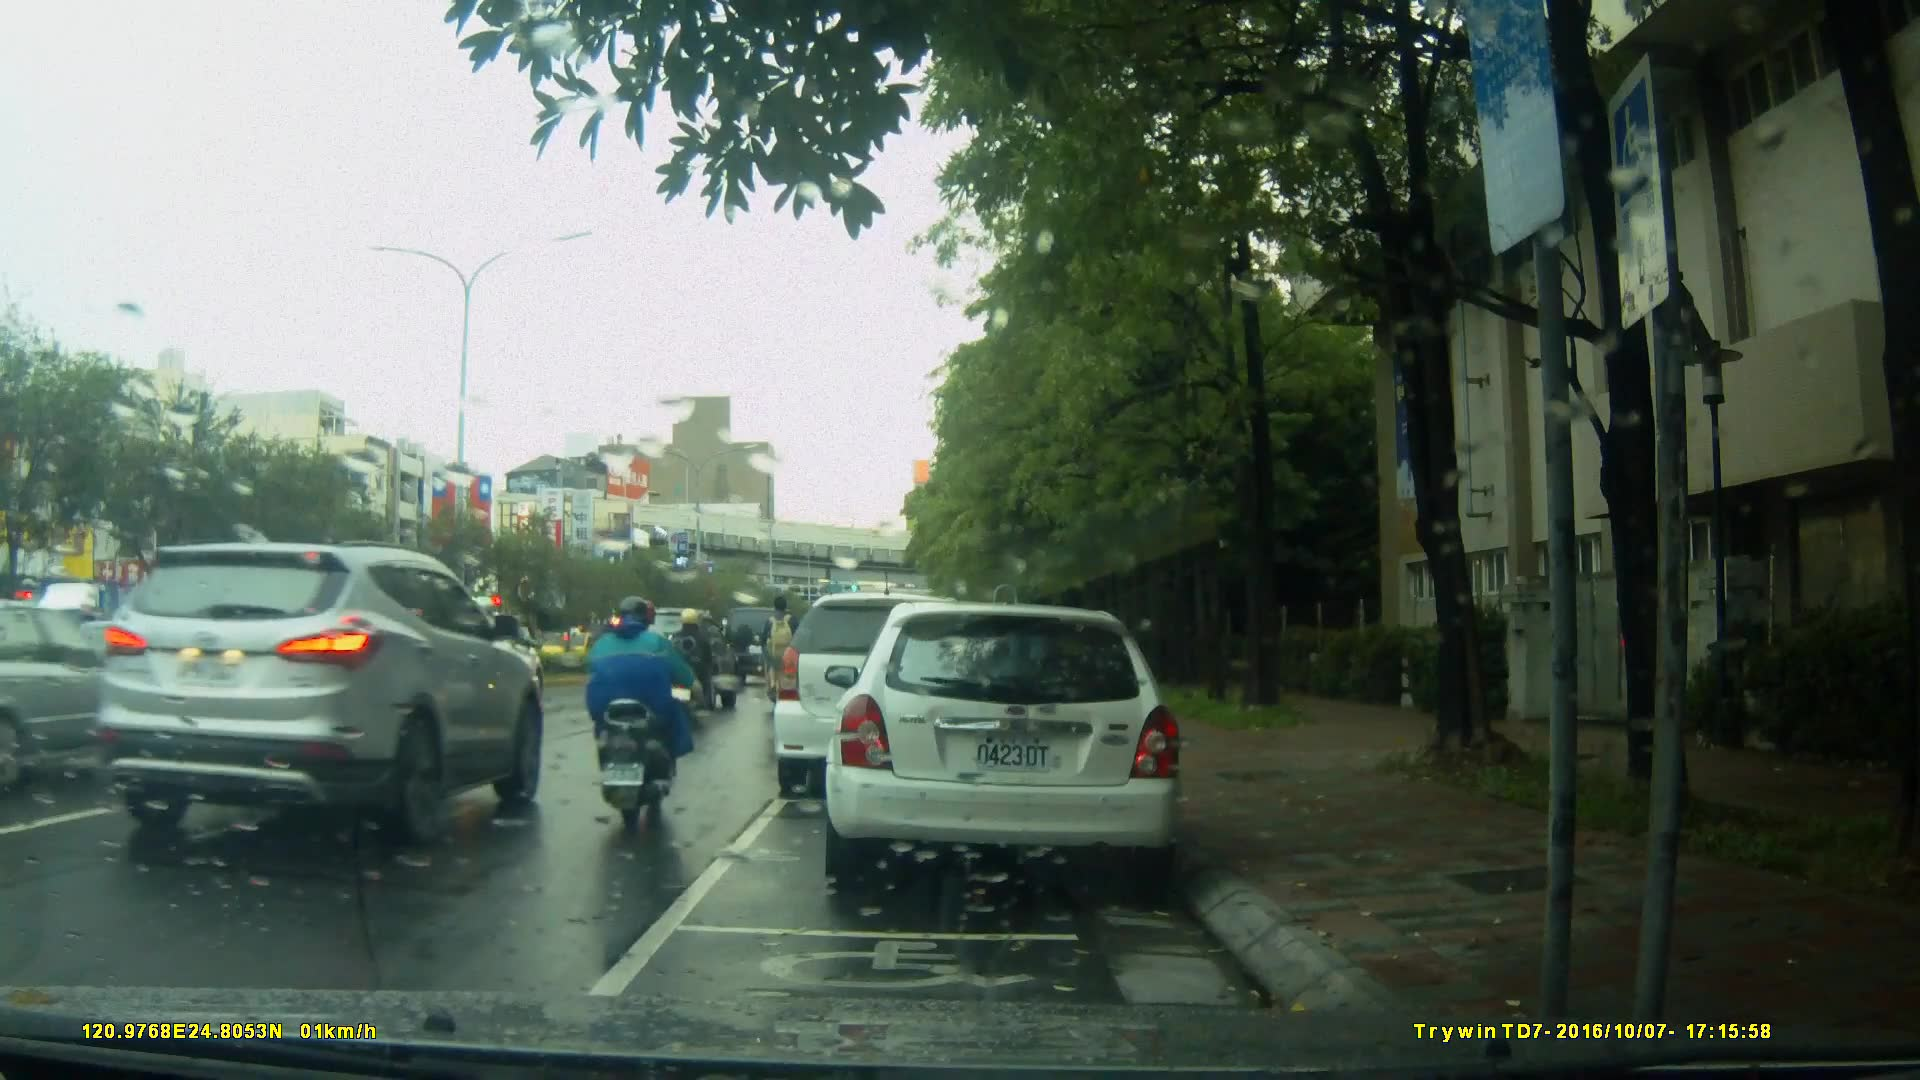rider: (586, 595, 694, 825), (663, 610, 728, 732), (761, 594, 803, 730)
vehicle: (93, 538, 546, 851), (822, 604, 1188, 883), (774, 595, 995, 802), (1, 599, 178, 796), (610, 595, 744, 704)
